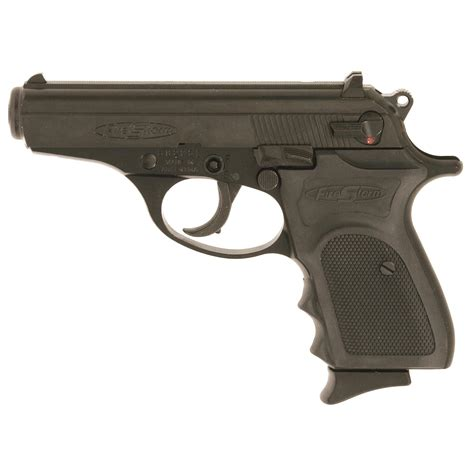gun: (7, 70, 464, 405)
